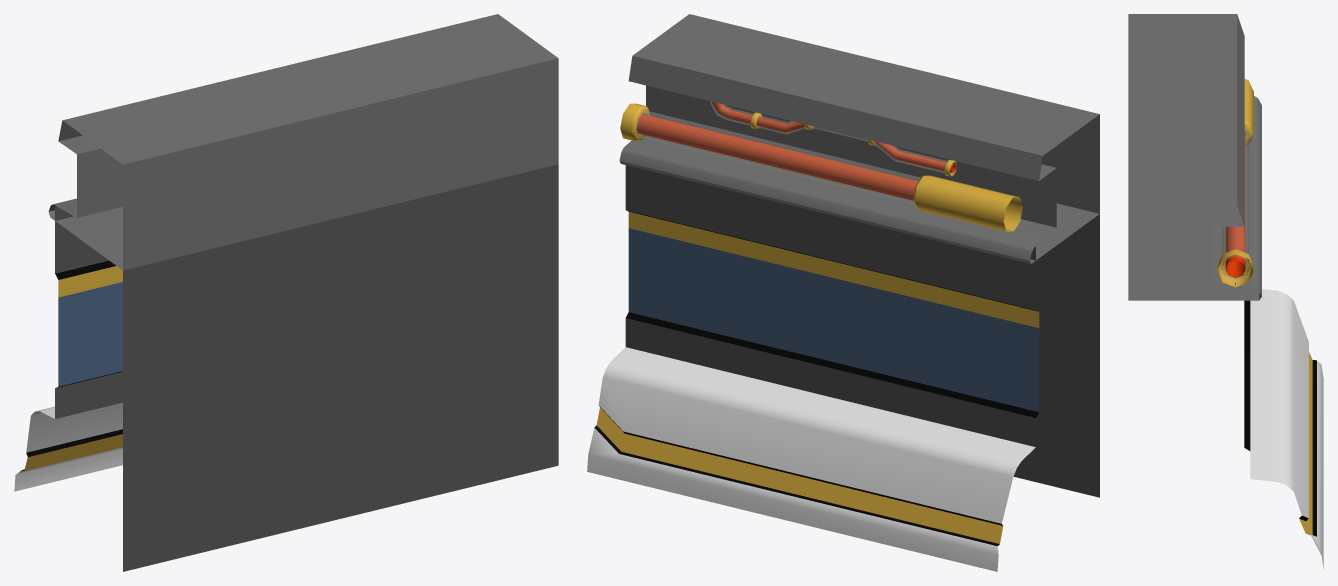
The model's file is Wall_withoutdetails3.fbx.
3 renders of one model, left to right at view 1: azimuth 30°, elevation 25°; view 2: azimuth 150°, elevation 25°; view 3: azimuth 270°, elevation 25°, orthographic. The views are drawn at different scales.
Visible parts, largest first — view 1: Wall_withoutdetails3; view 2: Wall_withoutdetails3; view 3: Wall_withoutdetails3.
Boxes of the visible parts, bbox=[...] form: Wall_withoutdetails3: bbox=[14, 14, 558, 571]; Wall_withoutdetails3: bbox=[587, 14, 1099, 571]; Wall_withoutdetails3: bbox=[1128, 14, 1323, 568].
Size of the model in its own units: 770 by 682 by 330.
